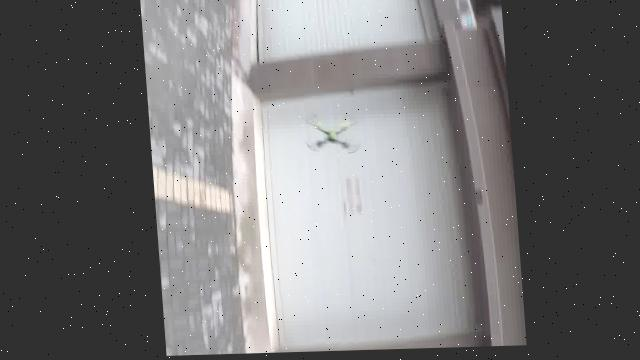drone: (304, 105, 365, 158)
